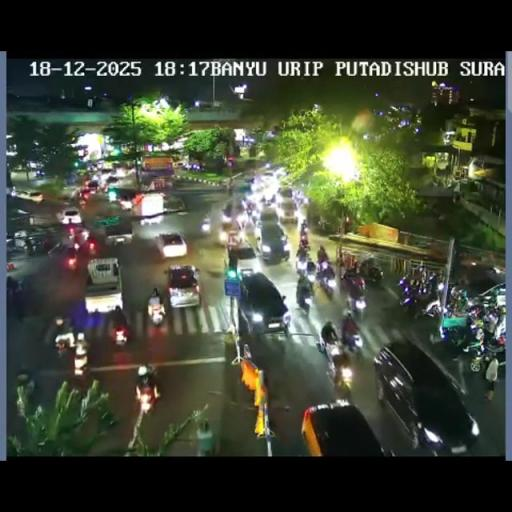Car: (374, 338, 478, 450), (301, 402, 388, 456), (234, 271, 290, 338), (85, 259, 123, 315), (166, 264, 200, 308), (258, 222, 290, 262), (470, 282, 505, 311), (226, 240, 256, 273), (133, 194, 163, 224), (155, 232, 187, 258), (222, 198, 246, 230), (160, 194, 186, 214), (258, 206, 280, 228), (104, 231, 132, 247), (58, 207, 82, 225), (278, 198, 296, 222), (14, 189, 42, 202), (199, 214, 211, 235), (278, 186, 294, 201), (86, 180, 99, 191)
Motorcycle: (436, 314, 473, 353), (340, 272, 366, 314), (330, 354, 354, 398), (478, 318, 505, 356), (134, 364, 158, 406), (315, 262, 336, 298), (448, 286, 470, 316), (341, 327, 363, 356), (73, 344, 89, 378), (295, 280, 313, 310), (16, 367, 36, 394), (397, 276, 414, 306), (148, 298, 166, 326), (13, 286, 27, 320), (55, 334, 73, 360), (422, 298, 442, 320), (46, 238, 68, 257), (292, 188, 309, 210), (314, 329, 328, 355), (466, 303, 484, 323), (113, 324, 129, 346), (245, 202, 260, 225), (425, 273, 438, 299), (366, 266, 384, 284), (296, 252, 310, 274), (317, 216, 334, 234), (63, 226, 77, 244), (260, 192, 276, 206), (252, 222, 262, 244), (25, 237, 37, 255), (67, 252, 78, 270), (316, 252, 328, 268), (305, 268, 316, 285), (358, 259, 369, 276), (88, 238, 98, 256), (299, 232, 309, 249), (119, 198, 133, 210), (54, 314, 65, 329), (294, 207, 304, 223), (218, 229, 228, 244), (489, 264, 504, 274), (282, 243, 290, 261), (78, 194, 88, 206), (300, 218, 307, 233), (73, 239, 80, 252), (227, 183, 234, 196)
